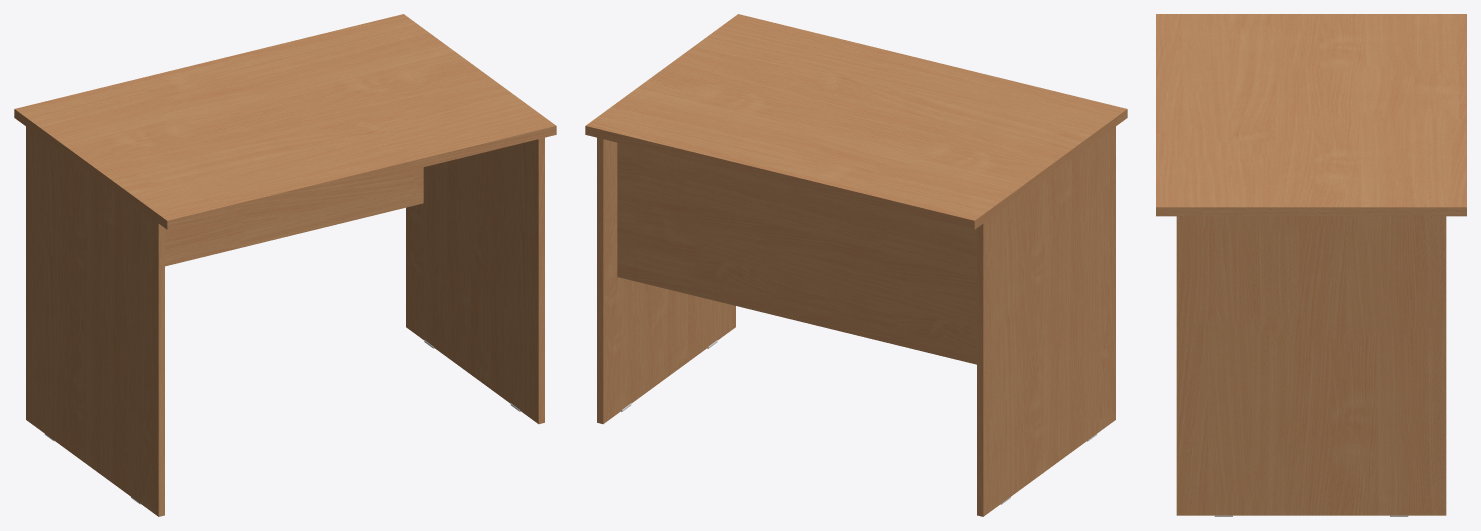
The model's file is РС10_tex.glb.
The picture shows the model from 3 angles, left to right: view 1: azimuth 30°, elevation 25°; view 2: azimuth 150°, elevation 25°; view 3: azimuth 270°, elevation 25°; orthographic projection.
Visible parts, largest first — view 1: v(2)_t(xyz)_m(gen); view 2: v(2)_t(xyz)_m(gen); view 3: v(2)_t(xyz)_m(gen).
Part boxes in pixels (x1,y1,x2,y2): v(2)_t(xyz)_m(gen): [14, 14, 556, 516]; v(2)_t(xyz)_m(gen): [585, 14, 1127, 516]; v(2)_t(xyz)_m(gen): [1156, 14, 1466, 516].
Bounding box in the file's own units: 1 × 0.75 × 0.68.
6 materials, 4 textured.
